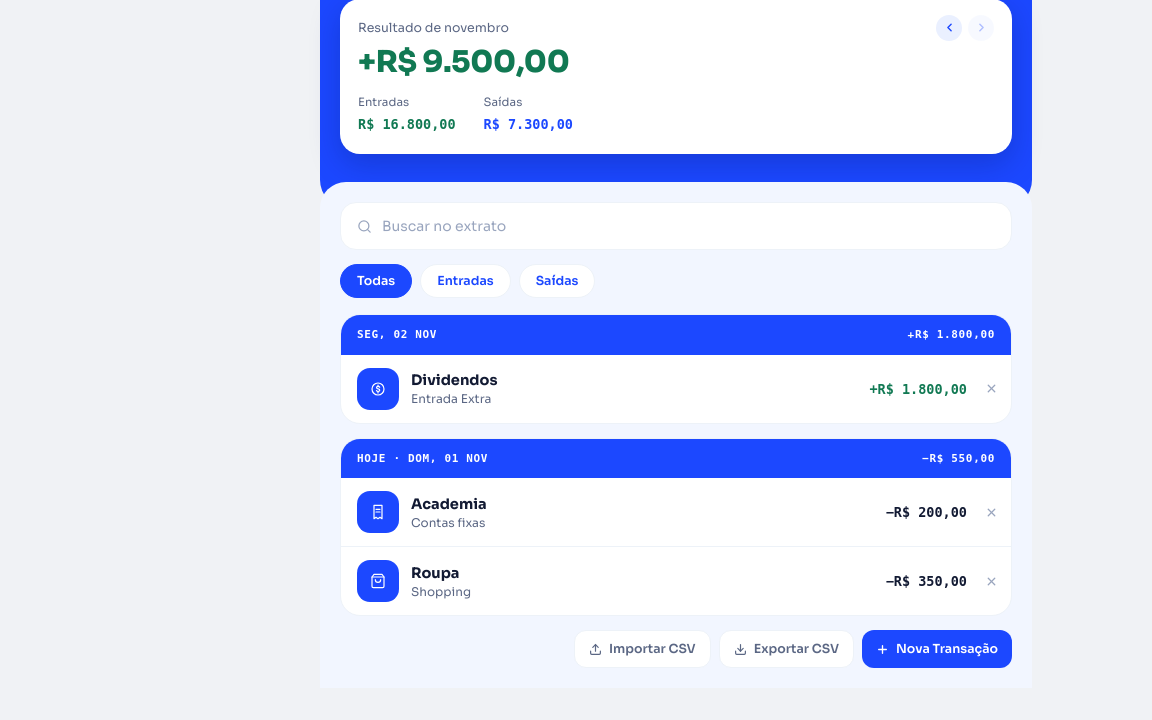
Test: Extrato — remover transação › a confirmação é um diálogo e diz QUAL transação vai sumir (descrição, valor e data)
This screenshot has width=1152, height=720.
(page scrolled)
Check: the text "Roupa" is shown, box [411,564,460,582]
Click the 3rd button named "Remover transação": (991, 581) [971,547,1011,615]
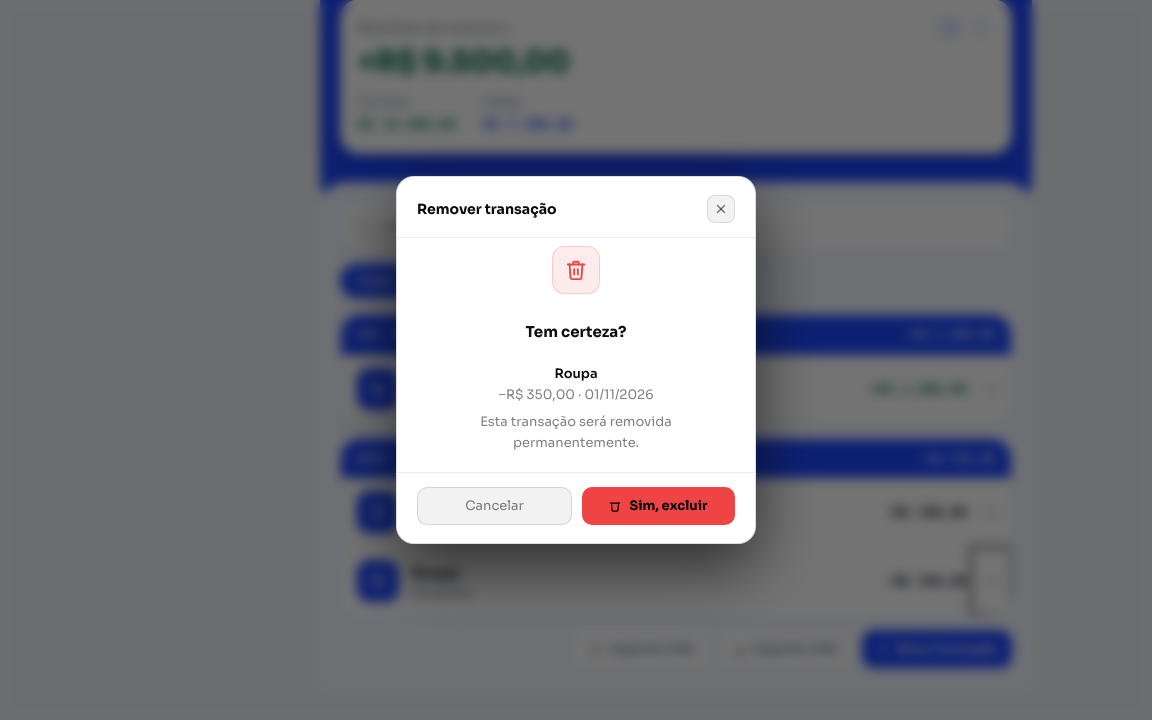
Check: the text "Roupa" is shown, box [554,365,598,382]
Check: the text "Esta transação será removida permanentemente." is shown, box [480,413,672,451]
